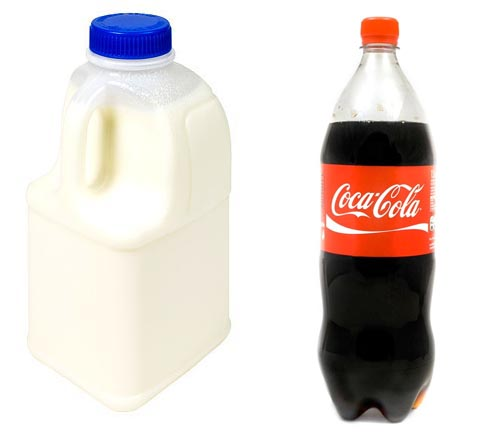Rec_Plastic: (32, 6, 252, 392), (308, 16, 436, 423)
